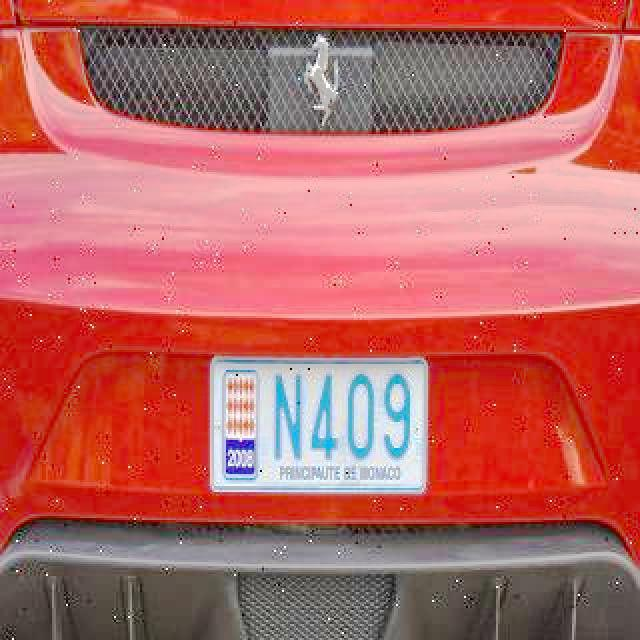license_plate: (214, 358, 428, 493)
